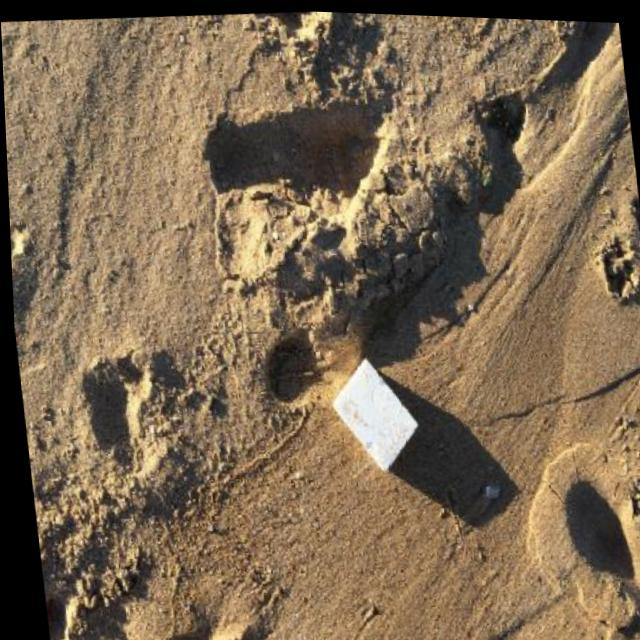foam: (327, 353, 424, 476)
